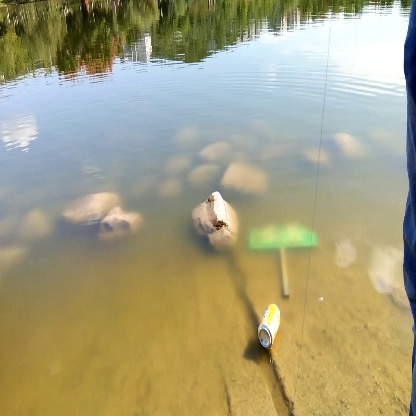bottle: (252, 301, 287, 353)
